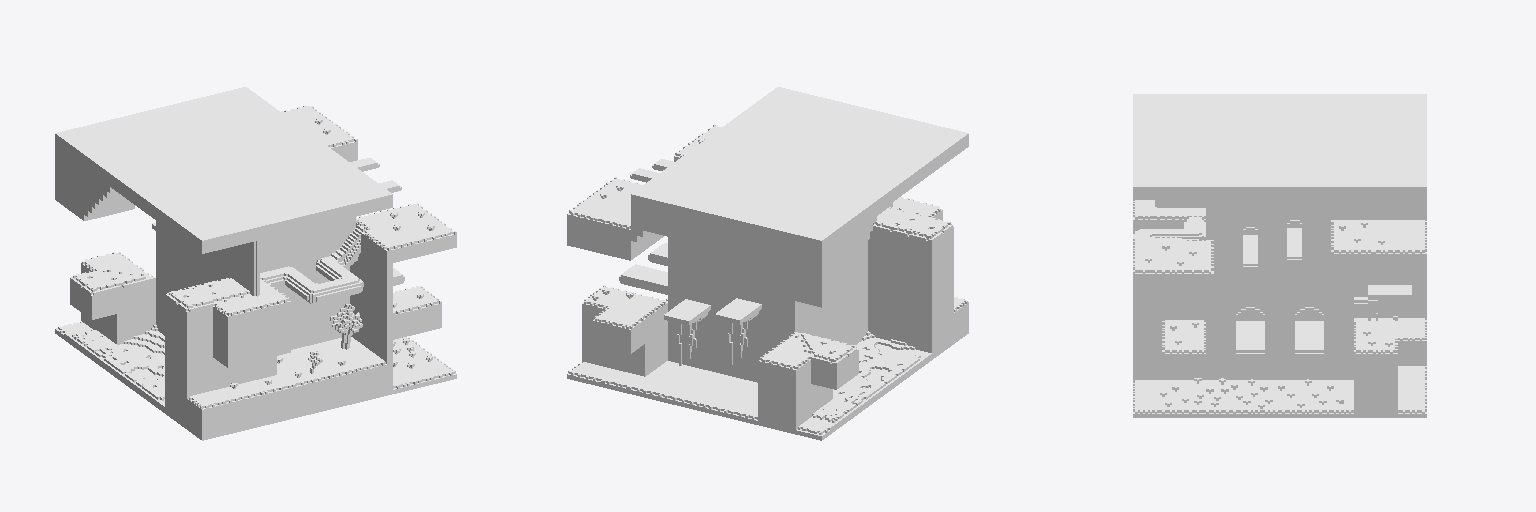
Rendered from level1detailed.obj.
3 views of the same model, side by side, from view 1: azimuth 30°, elevation 25°; view 2: azimuth 150°, elevation 25°; view 3: azimuth 270°, elevation 25° (orthographic).
Parts seen in each view (by area): view 1: level1detailed; view 2: level1detailed; view 3: level1detailed.
Part boxes in pixels (x1,y1,x2,y2): level1detailed: (55, 87, 456, 440); level1detailed: (567, 87, 968, 440); level1detailed: (1133, 94, 1426, 417).
Bounding box in the file's own units: 120 × 90 × 120.